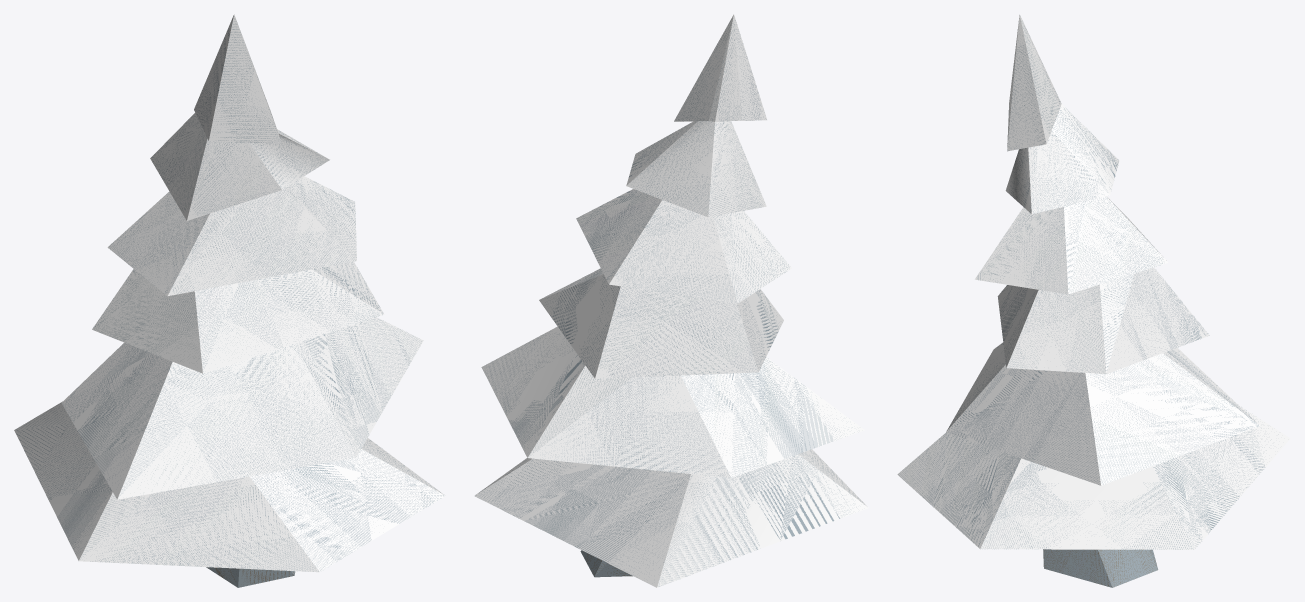
File: Tree_Pine_Snow_04.fbx
3 views of the same model, side by side, from view 1: azimuth 30°, elevation 25°; view 2: azimuth 150°, elevation 25°; view 3: azimuth 270°, elevation 25° (orthographic). The views are drawn at different scales.
Visible parts, largest first — view 1: Model; view 2: Model; view 3: Model.
Boxes of the visible parts, x1,y1,x2,y2 form: Model: [14, 14, 445, 587]; Model: [474, 14, 868, 587]; Model: [897, 14, 1290, 587].
Bounding box in the file's own units: 1292 × 1875 × 1280.
